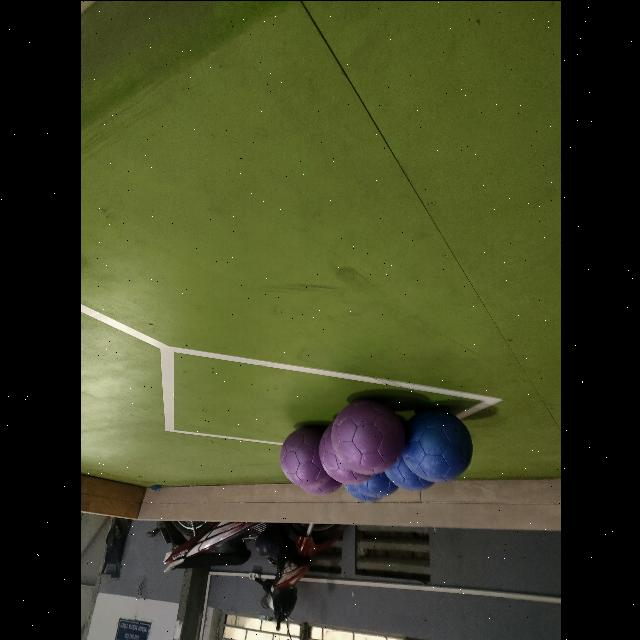B: (401, 409, 471, 481), (347, 472, 397, 498)
P: (331, 400, 404, 474), (279, 426, 325, 486)
